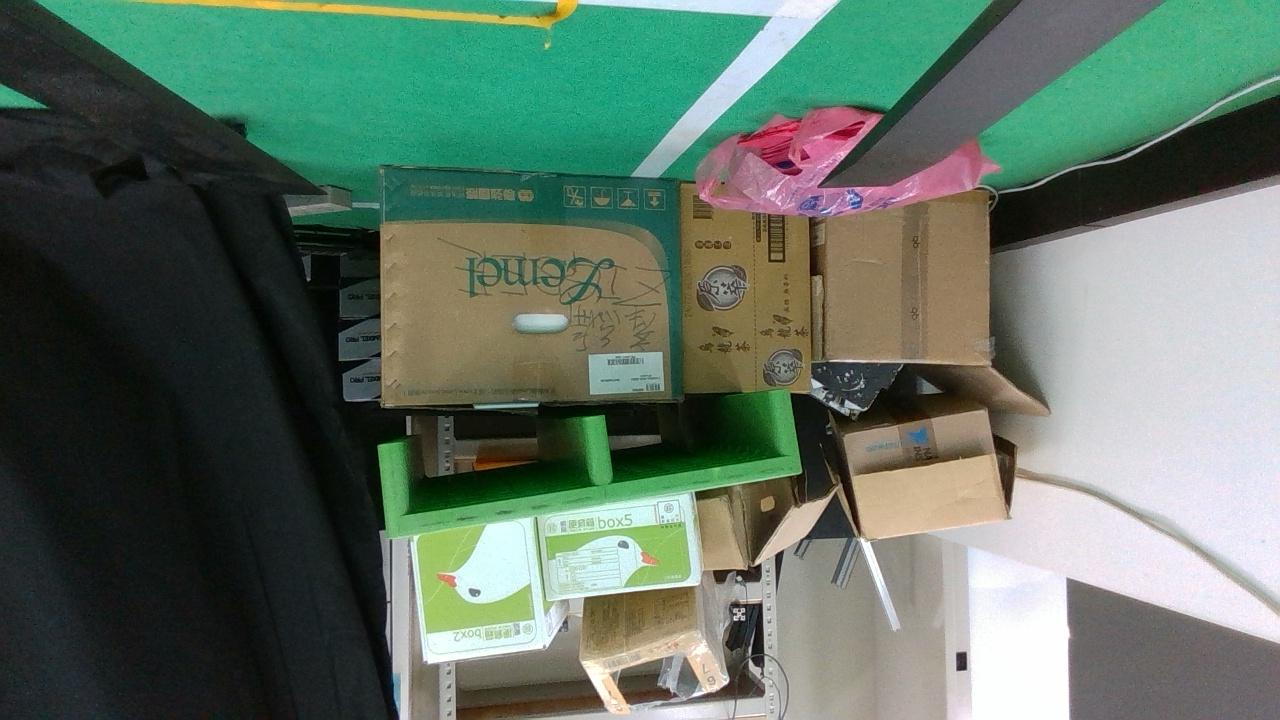Pallet: (376, 391, 803, 539)
